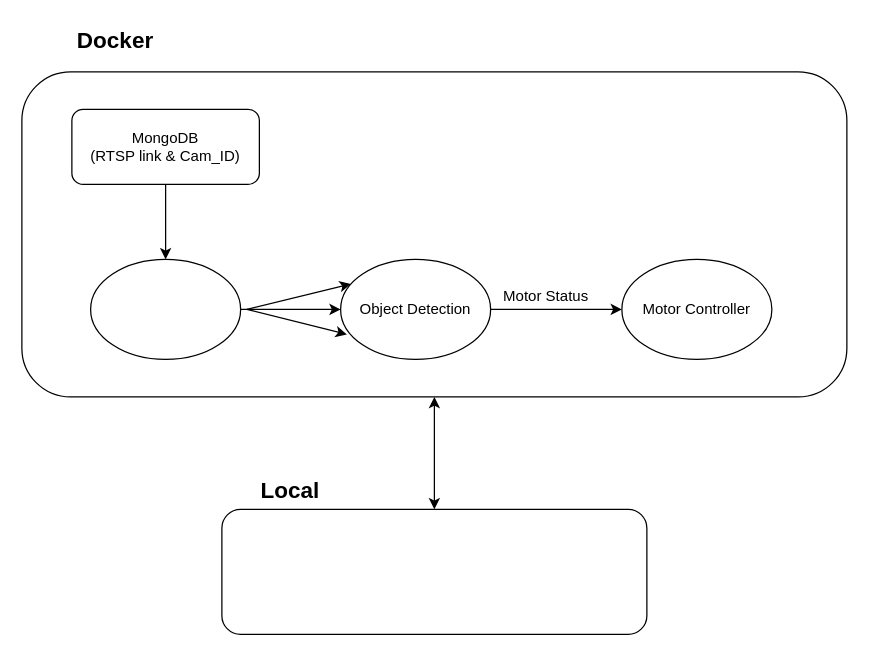
Some shapes in this 869 by 656 pixel diagram are drawn without their labels. The shapes that lost their labels are listed below. From the top down, each one's centre as x and y in pixels, then its label:
point (165, 308): Camera Publisher
point (434, 571): roscore
